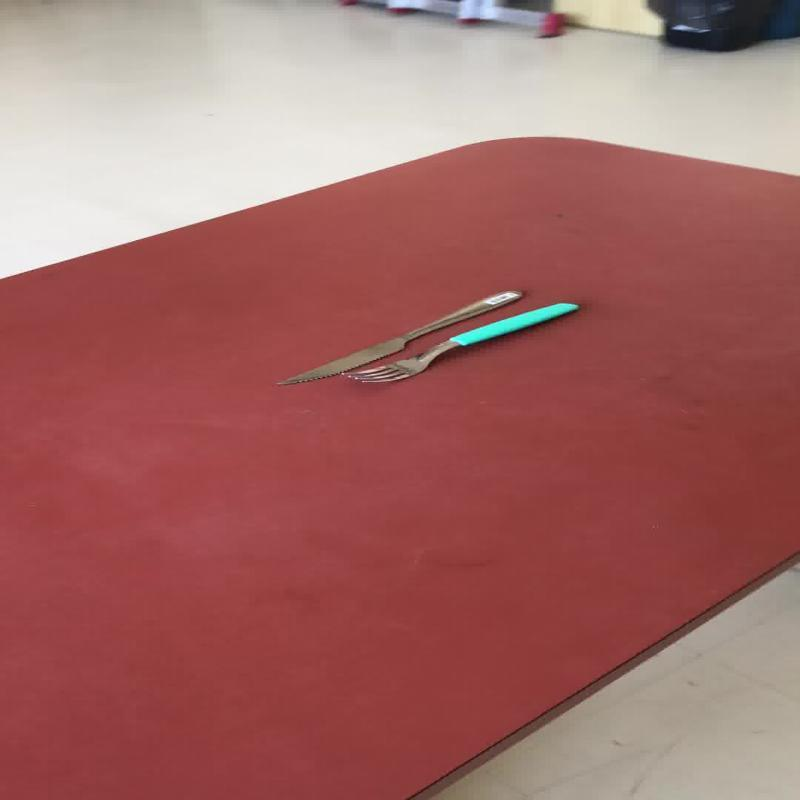fork: (345, 300, 579, 384)
knife: (272, 288, 522, 386)
